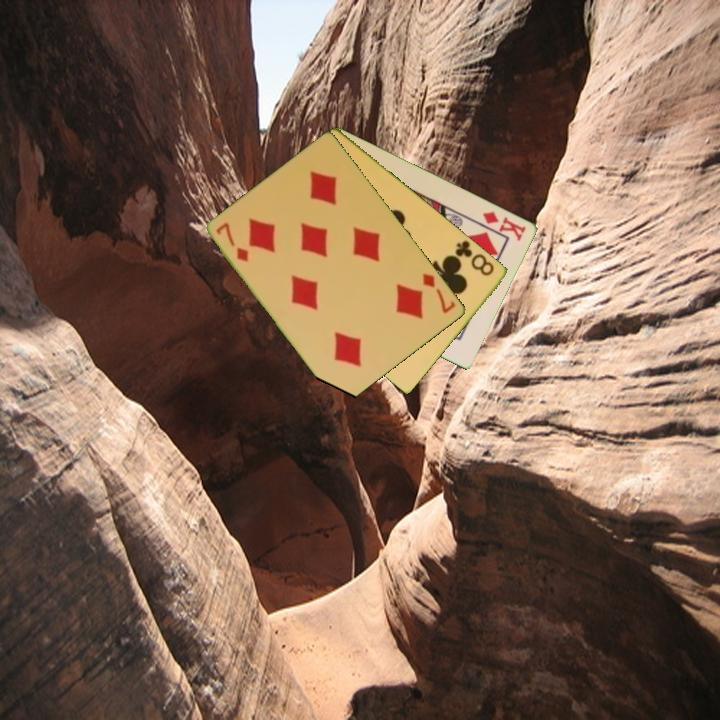7d: (419, 269, 459, 316), (213, 219, 252, 265)
8c: (452, 237, 497, 279)
Kd: (479, 208, 529, 244)
